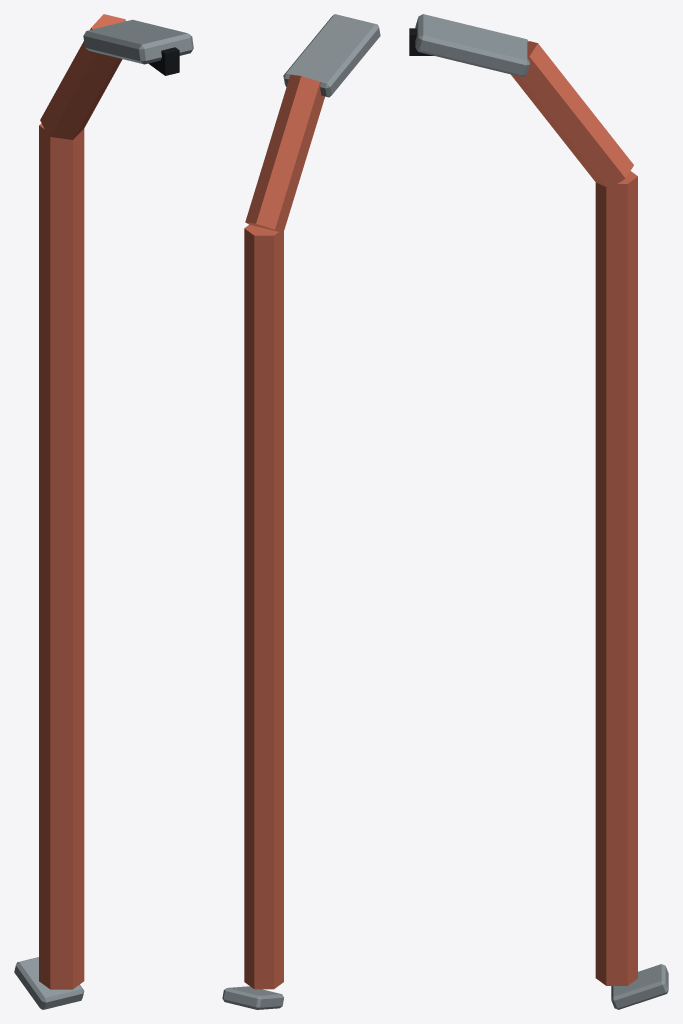
The model's file is Tool_Crowbar.fbx.
3 renders of one model, left to right at view 1: azimuth 30°, elevation 25°; view 2: azimuth 150°, elevation 25°; view 3: azimuth 270°, elevation 25°, orthographic. The views are drawn at different scales.
Parts seen in each view (by area): view 1: Shaft.001, Neck, Claw, Tip, Notch; view 2: Shaft.001, Neck, Claw, Tip; view 3: Shaft.001, Neck, Claw, Tip.
Part boxes in pixels (x1,y1,x2,y2): Shaft.001: (39,123,84,989); Neck: (40,14,125,139); Claw: (83,19,193,64); Tip: (14,957,84,1009); Notch: (149,47,179,75); Shaft.001: (244,224,283,989); Neck: (245,74,324,233); Claw: (283,14,380,97); Tip: (222,986,283,1009); Shaft.001: (595,171,637,985); Neck: (511,41,633,189); Claw: (415,14,529,76); Tip: (611,964,668,1009).
Size of the model in its own units: 0.03 by 0.5604 by 0.1349.
